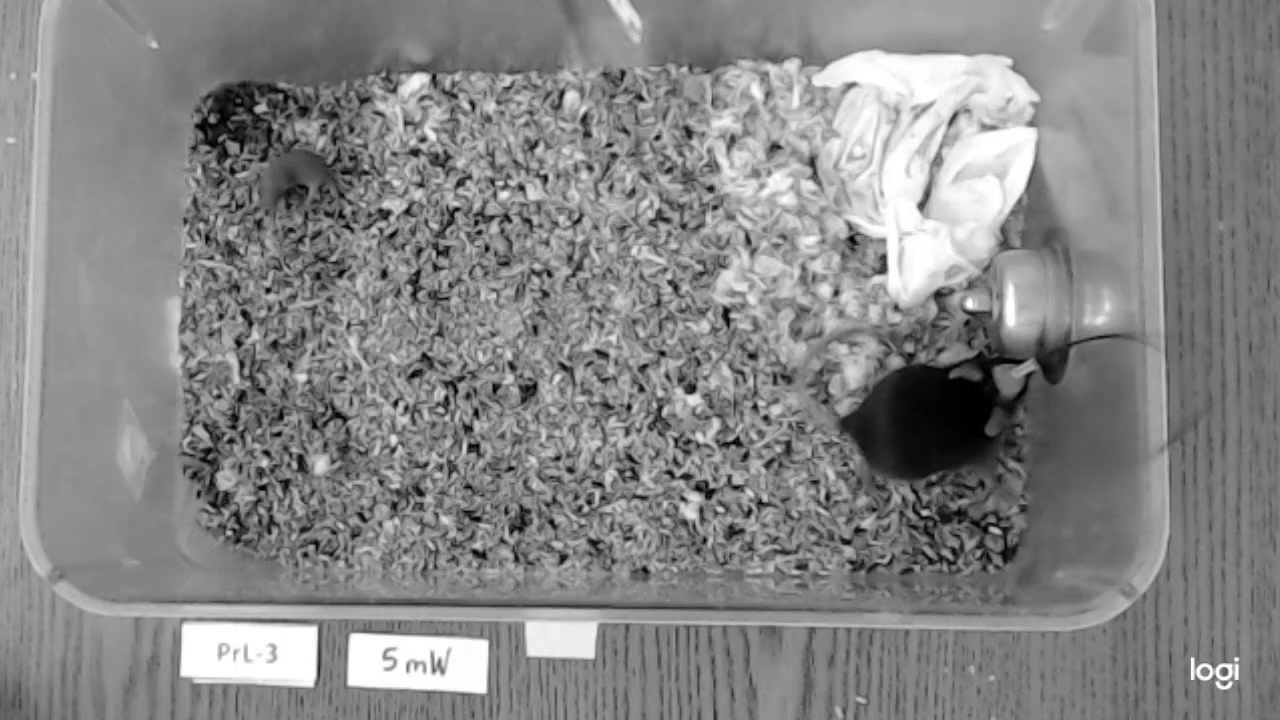child-mice: (251, 150, 346, 207)
